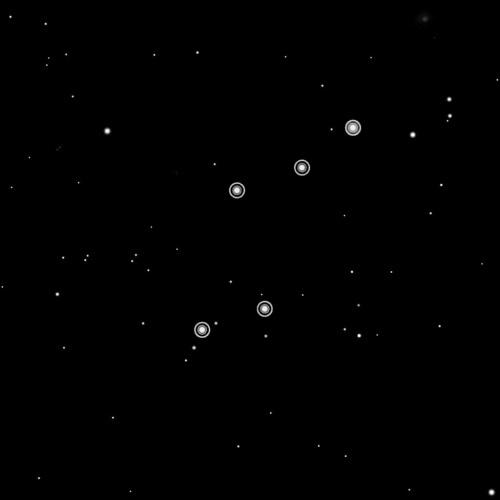lyra: (188, 115, 364, 342)
